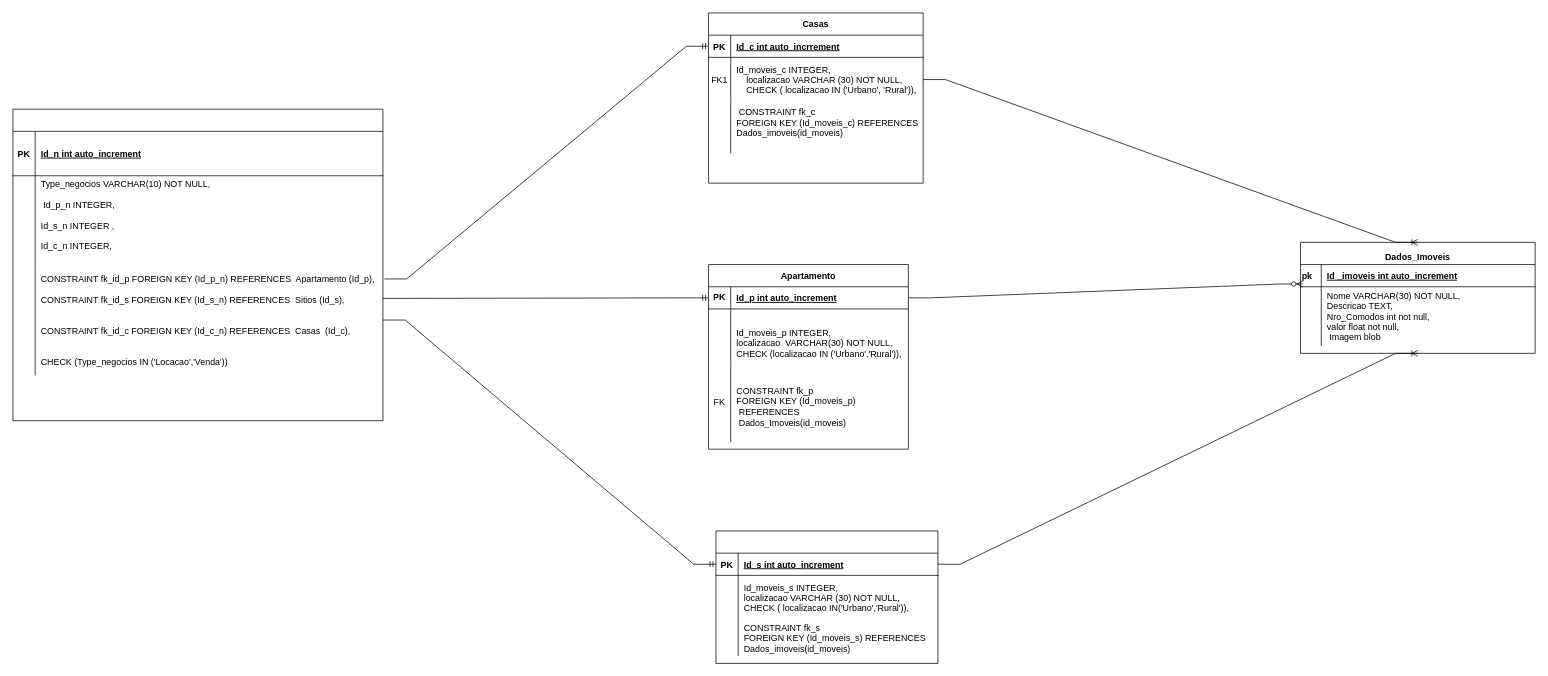
Some shapes in this 1548 by 676 pixel diagram are drawn without their labels. The box of each missing label's shape, as (x1, y1, x2, y2) in pixels:
Sitios: (715, 530, 938, 663)
Tipo_negocio: (12, 108, 383, 421)
